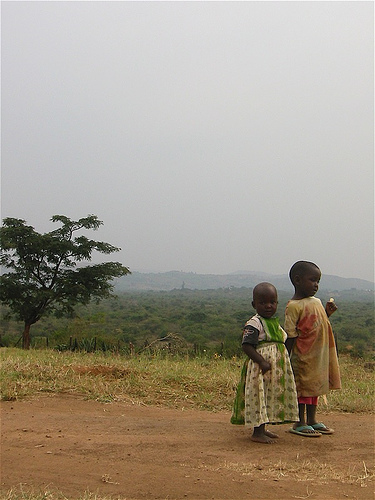without_mask: (290, 262, 325, 299), (251, 285, 281, 322)
